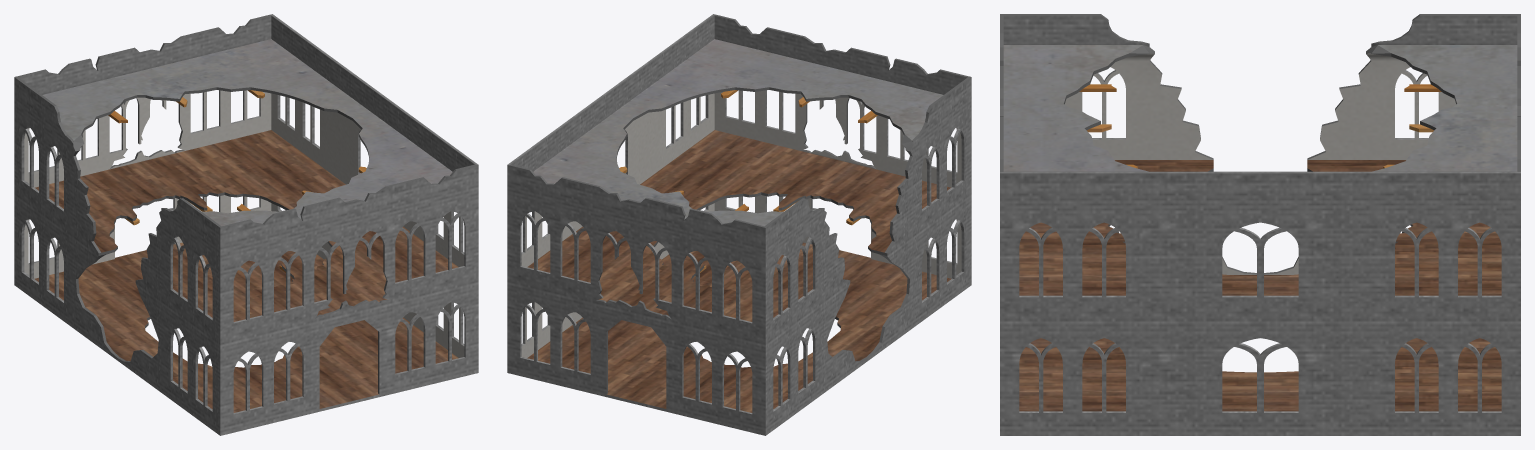
The model's file is building_ruins.fbx.
3 views of the same model, side by side, from view 1: azimuth 30°, elevation 25°; view 2: azimuth 150°, elevation 25°; view 3: azimuth 270°, elevation 25° (orthographic). The views are drawn at different scales.
Parts seen in each view (by area): view 1: building_ruins; view 2: building_ruins; view 3: building_ruins.
Part boxes in pixels (x1=…): building_ruins: x1=14, y1=14, x2=478, y2=435; building_ruins: x1=507, y1=14, x2=971, y2=435; building_ruins: x1=1000, y1=14, x2=1520, y2=435.
Size of the model in its own units: 220 by 169 by 304.
